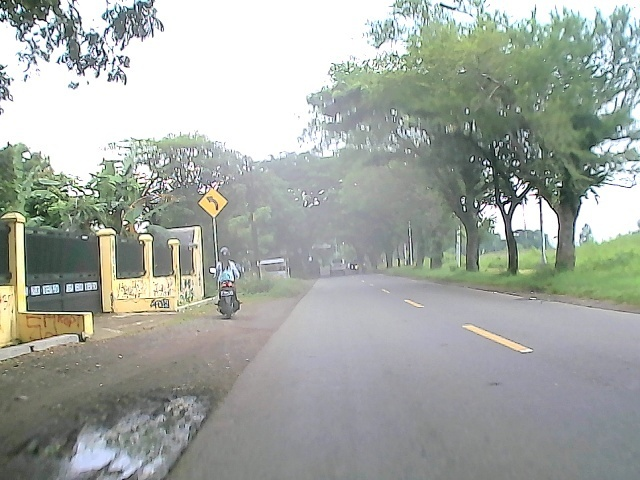Tikungan ke kiri: (198, 187, 228, 217)
